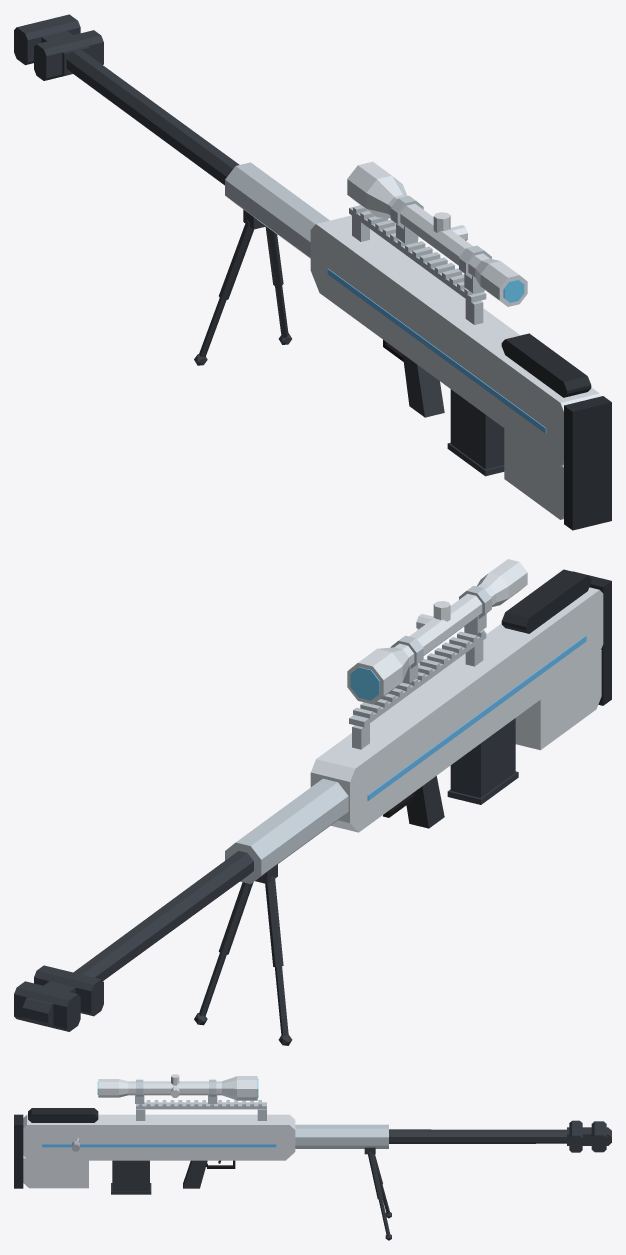
File: Glacier.obj
3 views of the same model, one above another, from view 1: azimuth 30°, elevation 25°; view 2: azimuth 150°, elevation 25°; view 3: azimuth 270°, elevation 25° (orthographic). The views are drawn at different scales.
Parts seen in each view (by area): view 1: Body, Pad, Scope, Barrel, Mount, Handguard, Muzzle, Magazine, Stock, Bipod, Grip, Accent; view 2: Body, Scope, Handguard, Barrel, Mount, Muzzle, Pad, Stock, Magazine, Bipod, Accent, Grip (+1 smaller); view 3: Body, Barrel, Scope, Handguard, Stock, Mount, Pad, Magazine, Muzzle, Accent, Bipod, Grip.
Boxes of the visible parts, bbox=[...] form: Body: bbox=[310, 215, 600, 467]; Pad: bbox=[501, 333, 611, 530]; Scope: bbox=[347, 161, 527, 306]; Barrel: bbox=[66, 50, 239, 185]; Mount: bbox=[349, 195, 491, 324]; Handguard: bbox=[225, 162, 329, 258]; Muzzle: bbox=[14, 14, 103, 80]; Magazine: bbox=[447, 389, 504, 476]; Stock: bbox=[504, 428, 563, 519]; Bipod: bbox=[194, 209, 291, 365]; Grip: bbox=[402, 354, 444, 417]; Accent: bbox=[327, 268, 546, 433]; Body: bbox=[310, 587, 603, 832]; Scope: bbox=[347, 559, 527, 704]; Handguard: bbox=[225, 778, 348, 883]; Barrel: bbox=[73, 851, 253, 980]; Mount: bbox=[349, 585, 491, 749]; Muzzle: bbox=[14, 965, 103, 1031]; Pad: bbox=[501, 569, 611, 705]; Stock: bbox=[515, 650, 601, 750]; Magazine: bbox=[447, 718, 518, 804]; Bipod: bbox=[194, 864, 292, 1045]; Accent: bbox=[367, 636, 586, 800]; Grip: bbox=[406, 776, 444, 828]; Body: bbox=[23, 1114, 295, 1160]; Barrel: bbox=[389, 1129, 566, 1143]; Scope: bbox=[98, 1074, 257, 1100]; Handguard: bbox=[295, 1124, 388, 1148]; Stock: bbox=[23, 1156, 88, 1188]; Mount: bbox=[135, 1079, 266, 1120]; Pad: bbox=[14, 1108, 98, 1188]; Magazine: bbox=[111, 1160, 151, 1194]; Muzzle: bbox=[567, 1120, 611, 1152]; Accent: bbox=[42, 1144, 276, 1147]; Bipod: bbox=[364, 1147, 391, 1240]; Grip: bbox=[183, 1160, 207, 1188].
Bounding box in the file's own units: 0.628 × 1.8 × 6.38.
